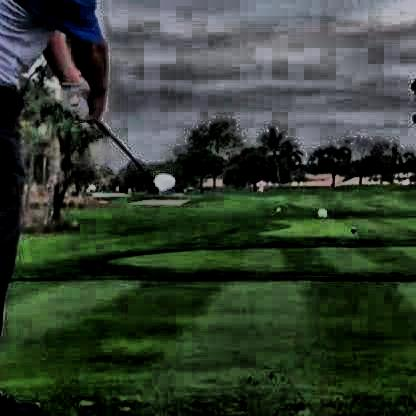golfball: (316, 207, 326, 217)
